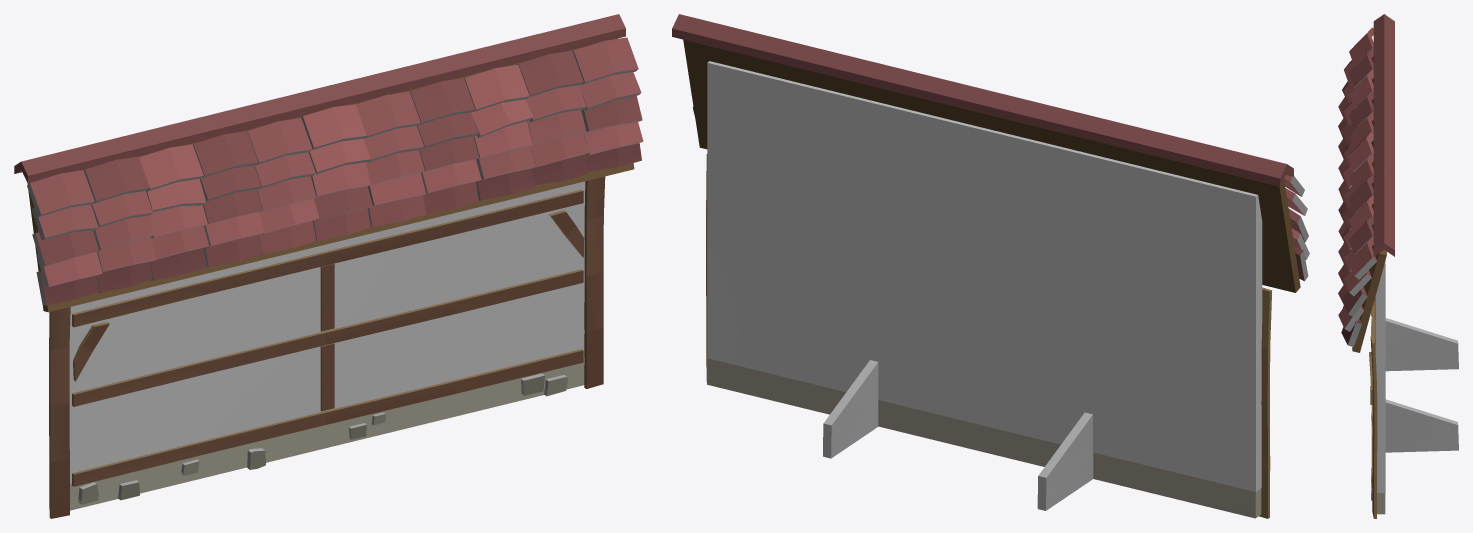
The model's file is paper house plane 4.fbx.
3 views of the same model, side by side, from view 1: azimuth 30°, elevation 25°; view 2: azimuth 150°, elevation 25°; view 3: azimuth 270°, elevation 25° (orthographic). The views are drawn at different scales.
Visible parts, largest first — view 1: Cube.266, Cube.376, Cube.363, Cube.279, Cube.374, Cube.373, Cube.267, Cube.350, Cube.381, Cube.380, Cube.369, Cube.368 (+29 smaller); view 2: Cube.266, Cube.376, Cube.350, Cube.363, Cube.372, Cube.279; view 3: Cube.372, Cube.376, Cube.266, Cube.350, Cube.381, Cube.380, Cube.369, Cube.368, Cube.279, Cube.370, Cube.371, Cube.383 (+12 smaller).
Part boxes in pixels (<box>): Cube.266: <box>69,181,585,483</box>; Cube.376: <box>14,14,625,183</box>; Cube.363: <box>70,358,584,510</box>; Cube.279: <box>49,176,605,518</box>; Cube.374: <box>72,349,583,486</box>; Cube.373: <box>72,189,583,327</box>; Cube.267: <box>72,269,583,406</box>; Cube.350: <box>27,38,634,312</box>; Cube.381: <box>27,37,638,217</box>; Cube.380: <box>84,50,583,203</box>; Cube.369: <box>193,78,474,177</box>; Cube.368: <box>139,65,529,191</box>; Cube.266: <box>707,61,1262,491</box>; Cube.376: <box>672,14,1293,186</box>; Cube.350: <box>683,39,1300,292</box>; Cube.363: <box>707,357,1261,518</box>; Cube.372: <box>823,360,1093,510</box>; Cube.279: <box>706,154,1272,518</box>; Cube.372: <box>1385,318,1458,452</box>; Cube.376: <box>1373,14,1394,256</box>; Cube.266: <box>1375,260,1385,493</box>; Cube.350: <box>1352,56,1386,352</box>; Cube.381: <box>1349,27,1376,279</box>; Cube.380: <box>1349,48,1373,254</box>; Cube.369: <box>1349,91,1373,213</box>; Cube.368: <box>1349,70,1373,233</box>; Cube.279: <box>1370,336,1377,518</box>; Cube.370: <box>1349,112,1373,192</box>; Cube.371: <box>1348,131,1373,171</box>; Cube.383: <box>1344,60,1371,295</box>.
Size of the model in its own units: 1417 by 813 by 313.
